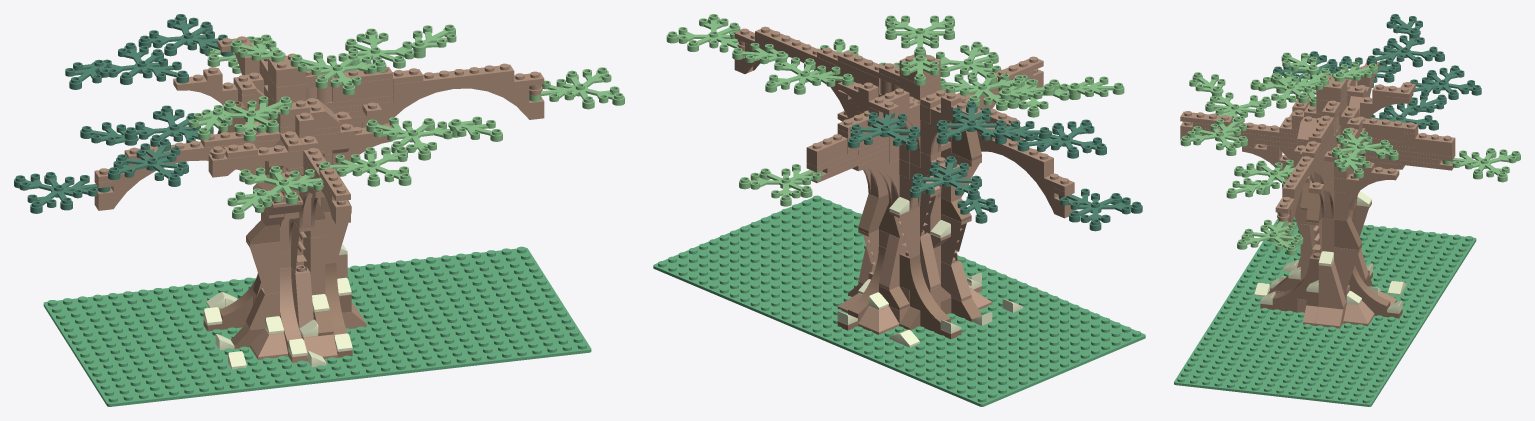
3 renders of one model, left to right at view 1: azimuth 30°, elevation 25°; view 2: azimuth 150°, elevation 25°; view 3: azimuth 270°, elevation 25°, orthographic. The views are drawn at different scales.
Visible parts, largest first — view 1: Part-3857_dot_dat, Part-6108_dot_dat_1, Part-6108_dot_dat, Part-2417_dot_dat_6, Part-2417_dot_dat_11, Part-2417_dot_dat, Part-2417_dot_dat_8, Part-2417_dot_dat_1, Part-2417_dot_dat_7, Part-2417_dot_dat_4, Part-2417_dot_dat_5, Part-2417_dot_dat_10 (+35 smaller); view 2: Part-3857_dot_dat, Part-6108_dot_dat, Part-30099_dot_dat, Part-6108_dot_dat_1, Part-2417_dot_dat, Part-2417_dot_dat_2, Part-2417_dot_dat_12, Part-2417_dot_dat_9, Part-2417_dot_dat_6, Part-2417_dot_dat_4, Part-2417_dot_dat_11, Part-2417_dot_dat_5 (+32 smaller); view 3: Part-3857_dot_dat, Part-2417_dot_dat_6, Part-2417_dot_dat_8, Part-6108_dot_dat_1, Part-2417_dot_dat_5, Part-2417_dot_dat_2, Part-2417_dot_dat_1, Part-2339_dot_dat_2, Part-2417_dot_dat_4, Part-2417_dot_dat_9, Part-30099_dot_dat_2, Part-2417_dot_dat_3 (+36 smaller).
Part boxes in pixels (x1,y1,x2,y2): Part-3857_dot_dat: (43, 246, 591, 406); Part-6108_dot_dat_1: (362, 63, 544, 127); Part-6108_dot_dat: (94, 141, 276, 210); Part-2417_dot_dat_6: (290, 52, 386, 95); Part-2417_dot_dat_11: (108, 138, 188, 186); Part-2417_dot_dat: (14, 172, 110, 213); Part-2417_dot_dat_8: (319, 146, 411, 186); Part-2417_dot_dat_1: (529, 67, 624, 109); Part-2417_dot_dat_7: (366, 117, 459, 160); Part-2417_dot_dat_4: (138, 14, 233, 56); Part-2417_dot_dat_5: (96, 42, 188, 84); Part-2417_dot_dat_10: (201, 96, 291, 141); Part-3857_dot_dat: (653, 195, 1145, 406); Part-6108_dot_dat: (958, 134, 1074, 218); Part-30099_dot_dat: (899, 250, 961, 339); Part-6108_dot_dat_1: (734, 26, 858, 118); Part-2417_dot_dat: (1058, 188, 1142, 231); Part-2417_dot_dat_2: (739, 164, 822, 206); Part-2417_dot_dat_12: (910, 156, 981, 199); Part-2417_dot_dat_9: (765, 57, 853, 94); Part-2417_dot_dat_6: (885, 15, 954, 57); Part-2417_dot_dat_4: (848, 112, 920, 150); Part-2417_dot_dat_11: (1017, 119, 1106, 158); Part-2417_dot_dat_5: (936, 101, 1006, 144); Part-3857_dot_dat: (1174, 217, 1476, 406); Part-2417_dot_dat_6: (1250, 73, 1328, 108); Part-2417_dot_dat_8: (1180, 116, 1247, 155); Part-6108_dot_dat_1: (1275, 148, 1327, 241); Part-2417_dot_dat_5: (1366, 35, 1444, 67); Part-2417_dot_dat_2: (1442, 148, 1520, 182); Part-2417_dot_dat_1: (1237, 219, 1303, 255); Part-2339_dot_dat_2: (1334, 161, 1399, 220); Part-2417_dot_dat_4: (1410, 65, 1481, 99); Part-2417_dot_dat_9: (1332, 128, 1398, 167); Part-30099_dot_dat_2: (1260, 252, 1320, 312); Part-2417_dot_dat_3: (1205, 92, 1271, 129).
Bounding box in the file's own units: 1 × 0.4896 × 0.6779.
